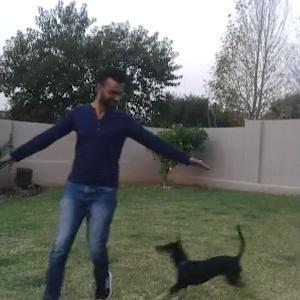land: (11, 73, 201, 283)
